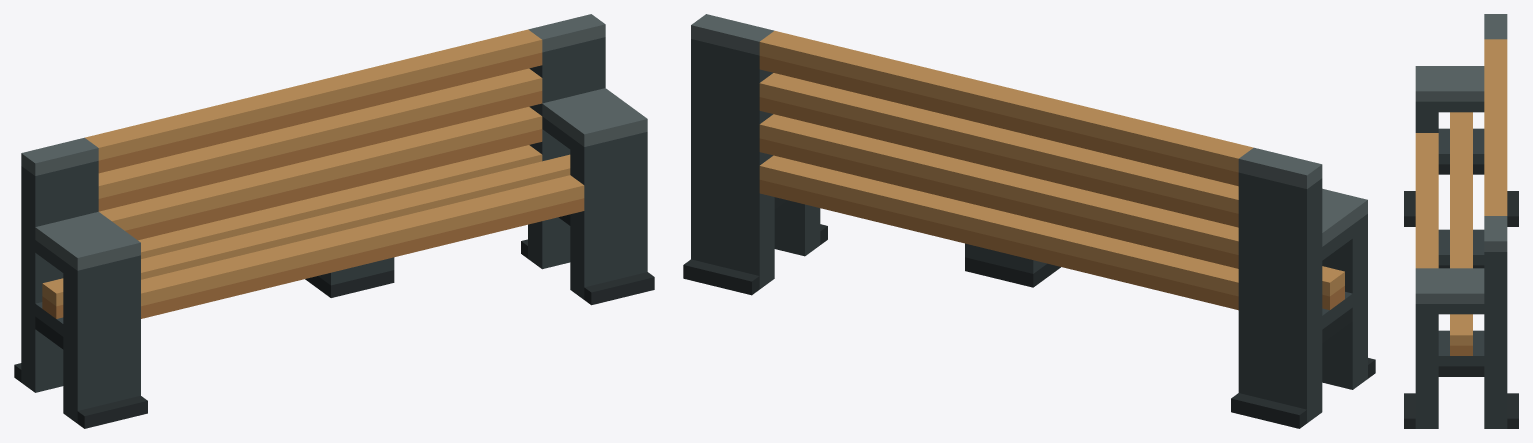
3 views of the same model, side by side, from view 1: azimuth 30°, elevation 25°; view 2: azimuth 150°, elevation 25°; view 3: azimuth 270°, elevation 25° (orthographic). The views are drawn at different scales.
Parts seen in each view (by area): view 1: oak_light_geometry, iron_geometry, oak_geometry, iron_light_geometry, iron_dark_geometry; view 2: oak_light_geometry, iron_geometry, oak_geometry, iron_light_geometry, iron_dark_geometry; view 3: iron_geometry, oak_light_geometry, iron_light_geometry, iron_dark_geometry, oak_geometry.
Part boxes in pixels (x1,y1,x2,y2): oak_light_geometry: (42,29,584,306); iron_geometry: (21,37,647,423); oak_geometry: (42,52,584,318); iron_light_geometry: (21,14,647,270); iron_dark_geometry: (14,214,654,428); oak_light_geometry: (759,31,1344,296); iron_geometry: (691,39,1367,423); oak_geometry: (759,56,1344,310); iron_light_geometry: (691,14,1367,246); iron_dark_geometry: (683,197,1375,428); iron_geometry: (1415,101,1507,428); oak_light_geometry: (1415,39,1507,345); iron_light_geometry: (1415,14,1507,303); iron_dark_geometry: (1404,164,1518,428); oak_geometry: (1450,345,1472,355).
Size of the model in its own units: 2.34 by 0.9 by 0.5.
